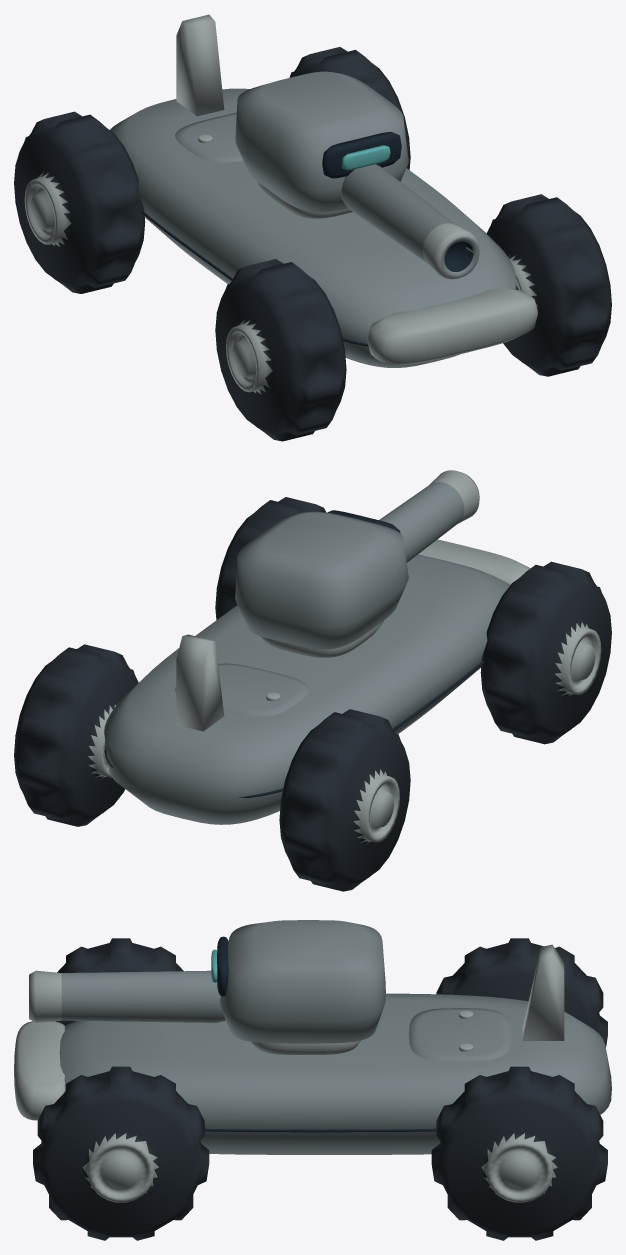
File: TOY_SCOUT.hi.glb
The picture shows the model from 3 angles, top to bottom: view 1: azimuth 30°, elevation 25°; view 2: azimuth 150°, elevation 25°; view 3: azimuth 270°, elevation 25°; orthographic projection.
Visible parts, largest first — view 1: Body, WheelsFront, WheelsRear, TurretYaw, BarrelRecoil; view 2: Body, WheelsRear, WheelsFront, TurretYaw, BarrelRecoil; view 3: Body, WheelsRear, WheelsFront, TurretYaw, BarrelRecoil.
Part boxes in pixels (x1,y1,x2,y2): Body: (110,14,537,367); WheelsFront: (215,194,611,441); WheelsRear: (14,47,410,293); TurretYaw: (235,71,408,218); BarrelRecoil: (341,164,479,279); Body: (104,539,530,824); WheelsRear: (14,644,410,891); WheelsFront: (215,497,611,744); TurretYaw: (235,510,408,657); BarrelRecoil: (379,470,479,562); Body: (14,944,611,1154); WheelsRear: (431,938,607,1240); WheelsFront: (33,938,209,1240); TurretYaw: (211,920,385,1055); BarrelRecoil: (29,970,225,1022).
Bounding box in the file's own units: 0.665 × 0.425 × 1.01.
